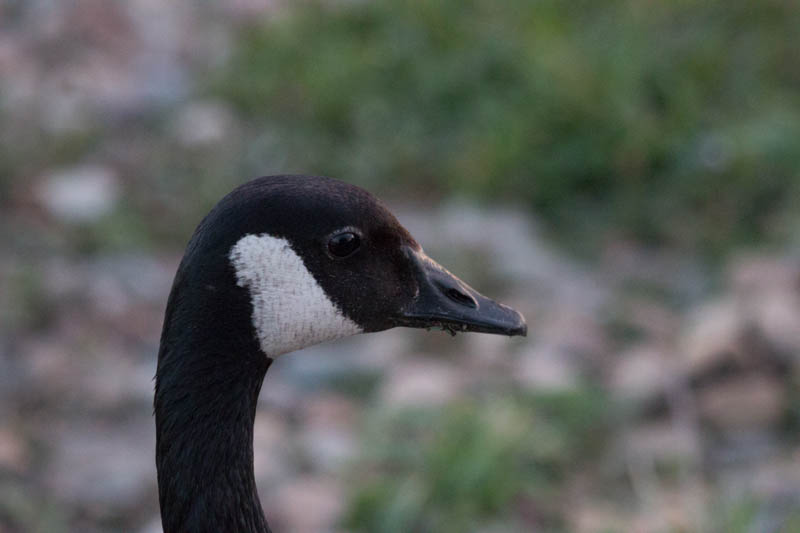goose-head: (160, 176, 529, 361)
